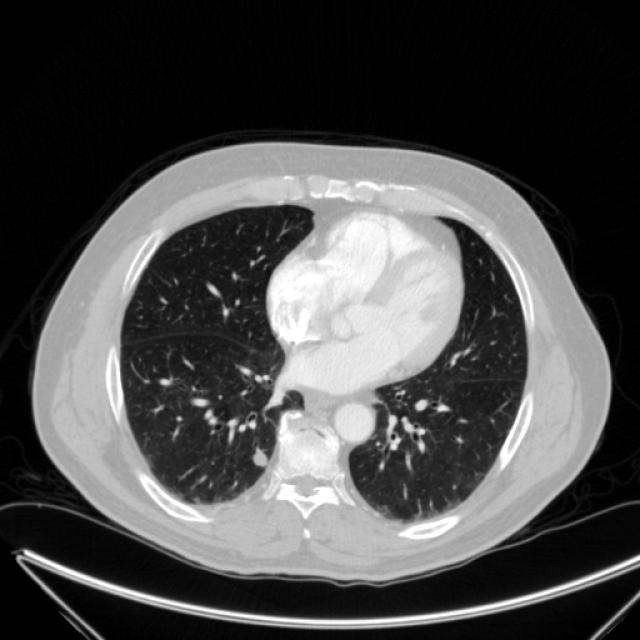nodule: (242, 442, 276, 476)
